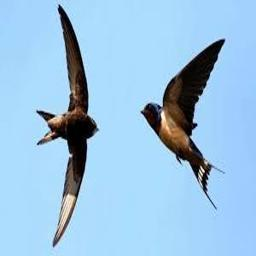Swallow: (37, 6, 100, 247), (141, 38, 226, 209)
